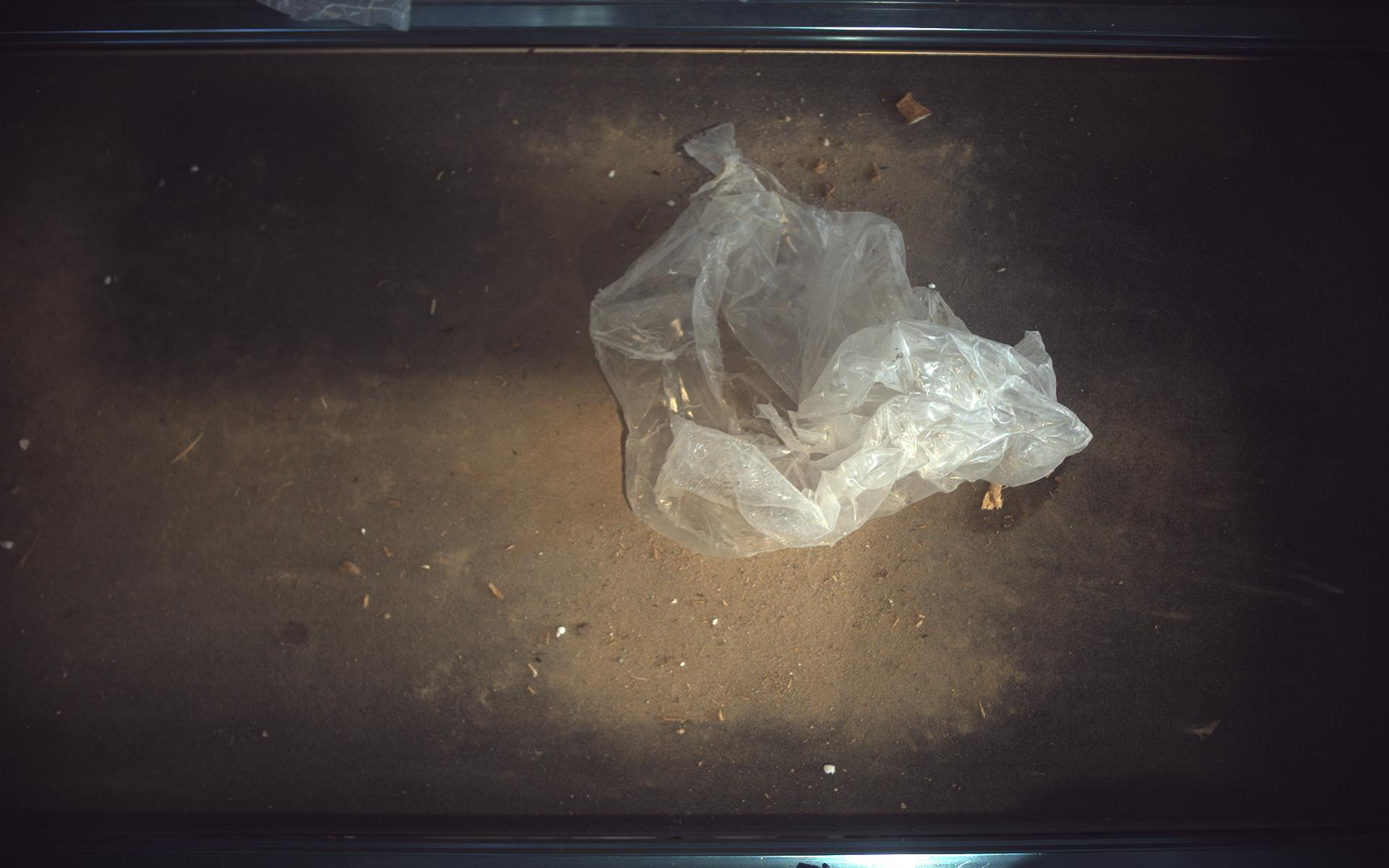general_w: (591, 122, 1095, 558)
